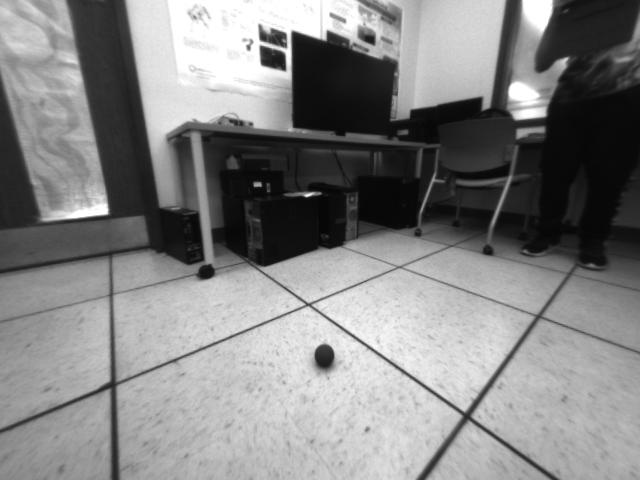dogtoy: (308, 338, 345, 371)
